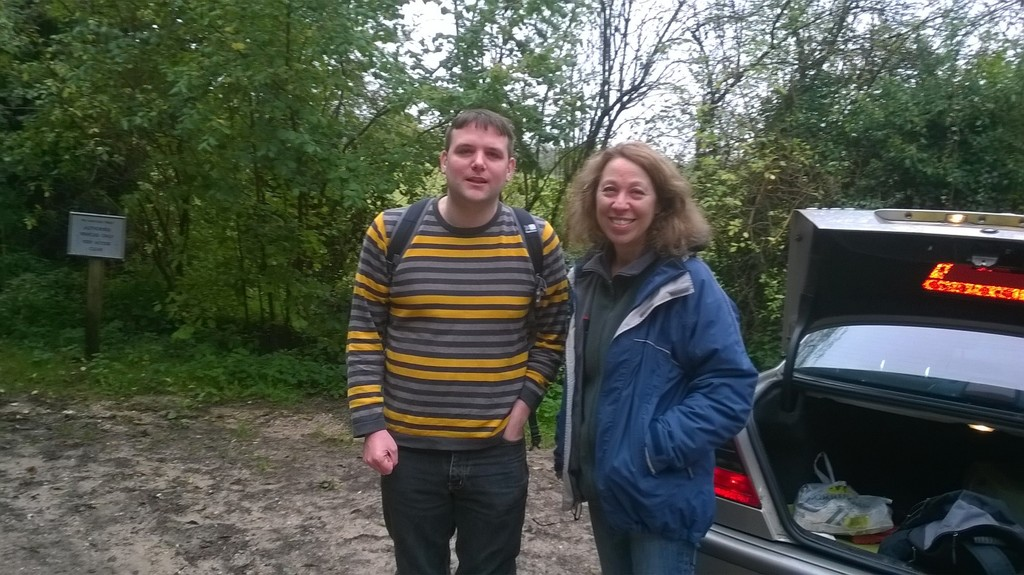Car: (734, 201, 1024, 562)
